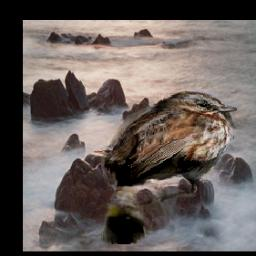Sparrow: (102, 89, 238, 244)
